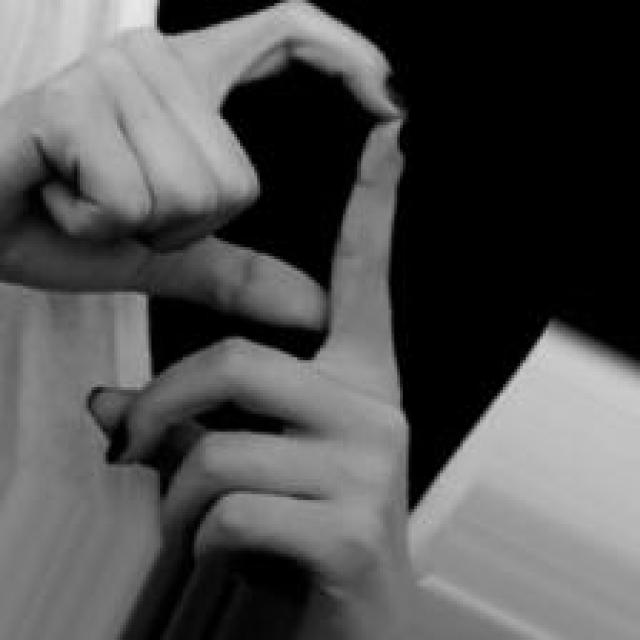D: (1, 1, 412, 612)
